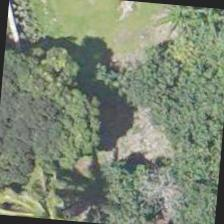Kelapa_Sawit: (0, 161, 93, 222)
